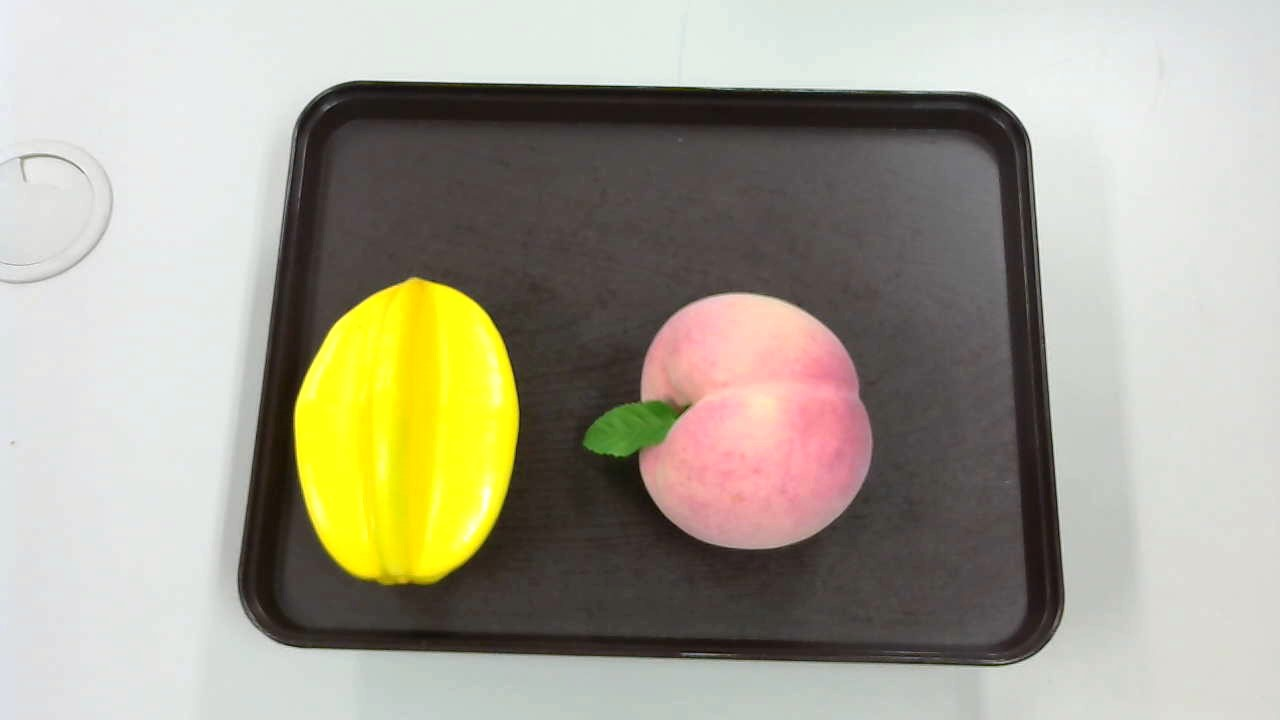peach: (579, 290, 879, 558)
star fruit: (296, 277, 530, 590)
